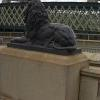Statue: (4, 4, 82, 65)
